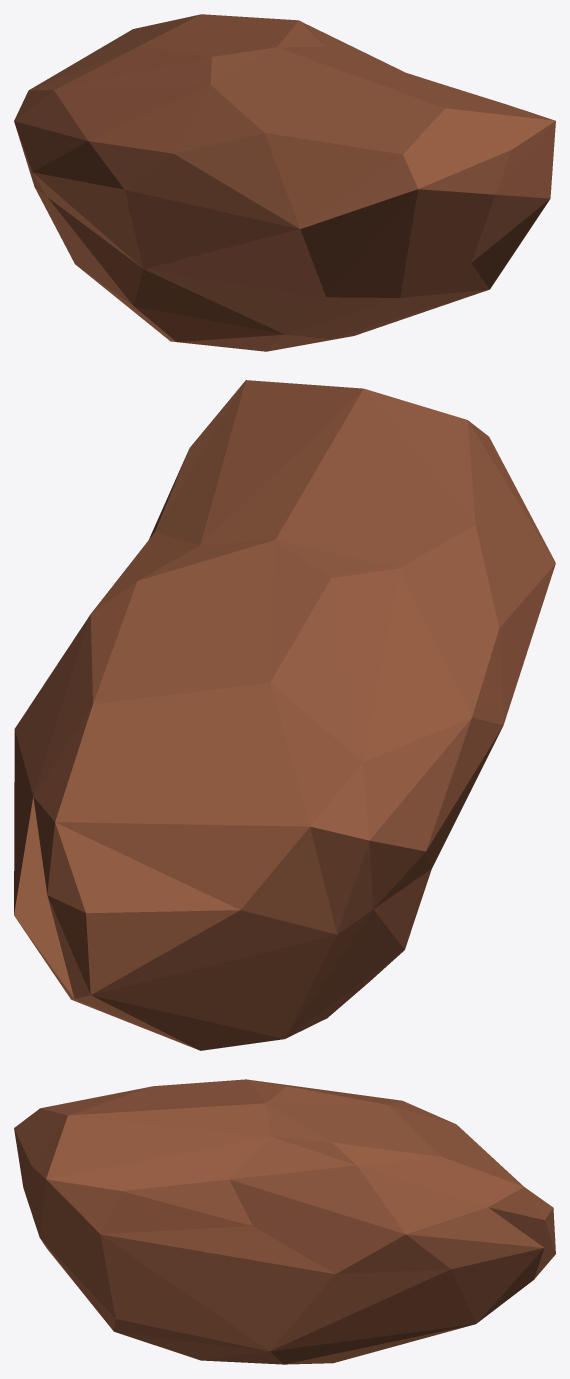
Rendered from Asteroid.007.glb.
3 renders of one model, top to bottom at view 1: azimuth 30°, elevation 25°; view 2: azimuth 150°, elevation 25°; view 3: azimuth 270°, elevation 25°, orthographic. The views are drawn at different scales.
Visible parts, largest first — view 1: Asteroid.007; view 2: Asteroid.007; view 3: Asteroid.007.
Part boxes in pixels (x1=…): Asteroid.007: x1=14, y1=14, x2=555, y2=351; Asteroid.007: x1=14, y1=380, x2=555, y2=1050; Asteroid.007: x1=14, y1=1079, x2=555, y2=1364.
Size of the model in its own units: 6.04 by 5.38 by 9.9.
Materials: 1 (1 with a texture image).
